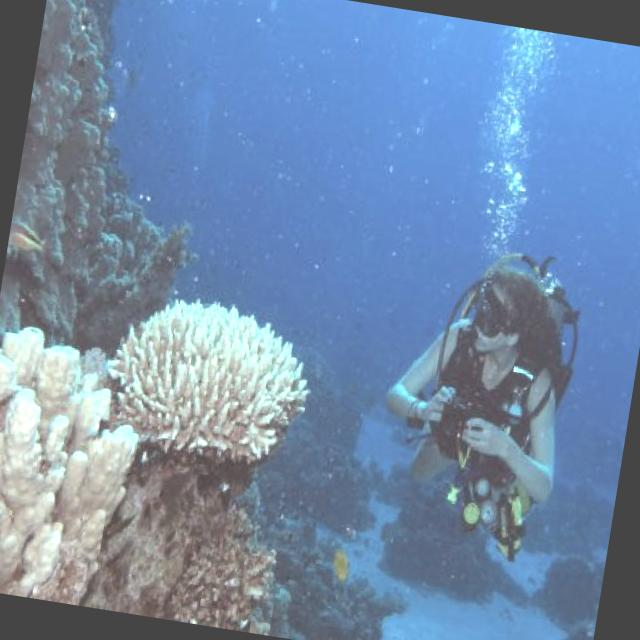Person: (368, 196, 604, 593)
